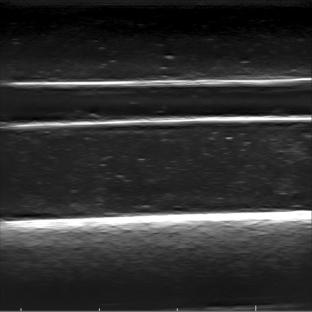vessel: (1, 77, 307, 126)
